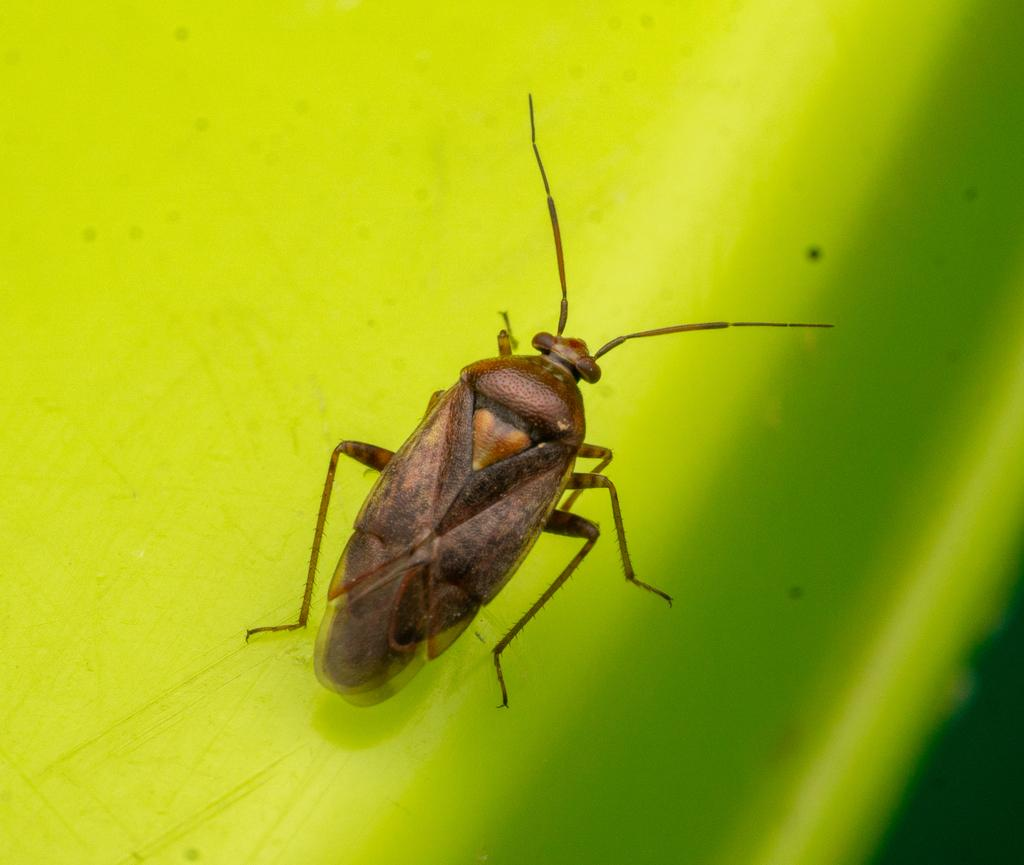plant_bugs: (168, 34, 866, 850)
